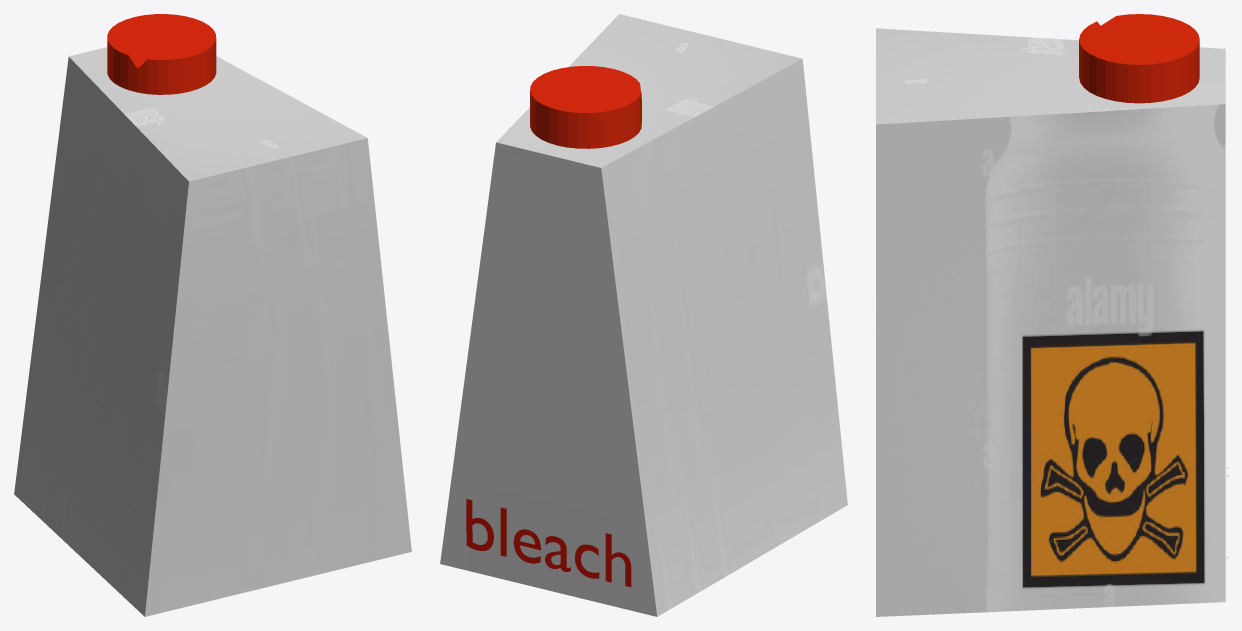
File: bleach 2.fbx
3 renders of one model, left to right at view 1: azimuth 30°, elevation 25°; view 2: azimuth 150°, elevation 25°; view 3: azimuth 270°, elevation 25°, orthographic. The views are drawn at different scales.
Visible parts, largest first — view 1: Cube, Cylinder; view 2: Cube, Cylinder, Text; view 3: Cube, Cylinder.
Part boxes in pixels (left/top/right/bottom): Cube: left=14, top=47, right=411, bottom=616; Cylinder: left=107, top=14, right=216, bottom=94; Cube: left=440, top=14, right=847, bottom=616; Cylinder: left=530, top=66, right=641, bottom=148; Text: left=466, top=499, right=631, bottom=587; Cube: left=876, top=28, right=1225, bottom=616; Cylinder: left=1079, top=14, right=1199, bottom=103.
Bounding box in the file's own units: 82.98 × 136 × 85.81.
3 materials, 1 textured.
